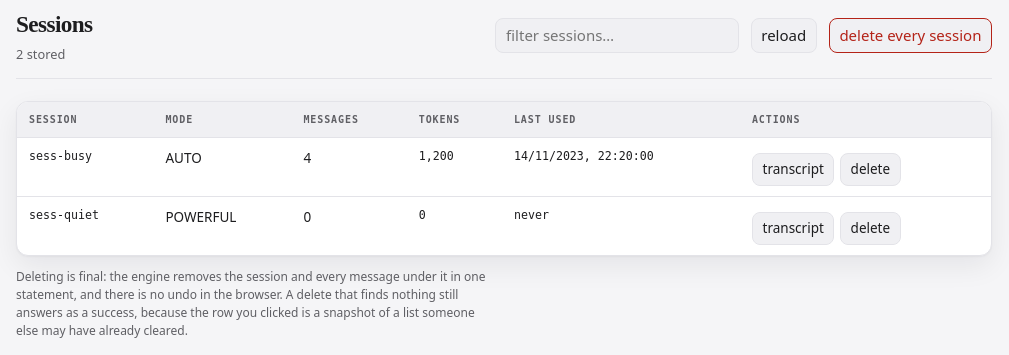
SessionsScreen › filters by id or mode and says what the filter hid
The width and height of the screenshot is (1009, 355).
Expected: the text "sess-busy" is shown, [17,138,153,197]
In the field labelled "filter sessions": (617, 36) [496,18,739,54], type "powerful"
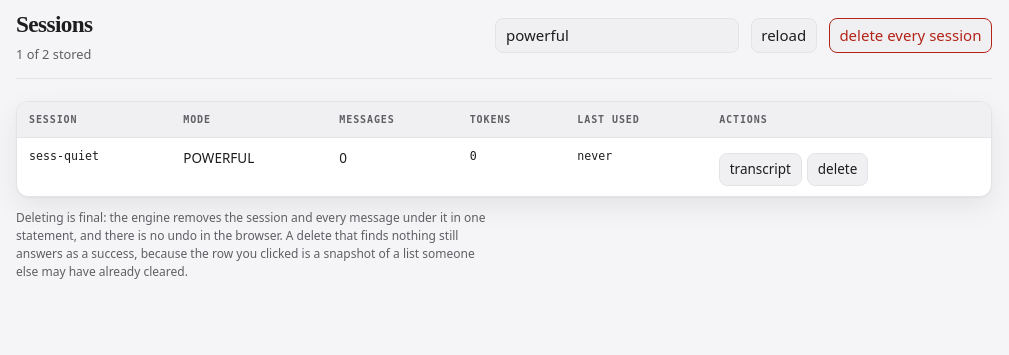
Expected: the text "sess-quiet" is shown, [17,138,171,196]
Expected: the text "sess-busy" is gone
Expected: the text "1 of 2 stored" is shown, [16,45,93,64]
Replace the text in the field named "filter sessions" with "zzz": (617, 36) [496,18,739,54]
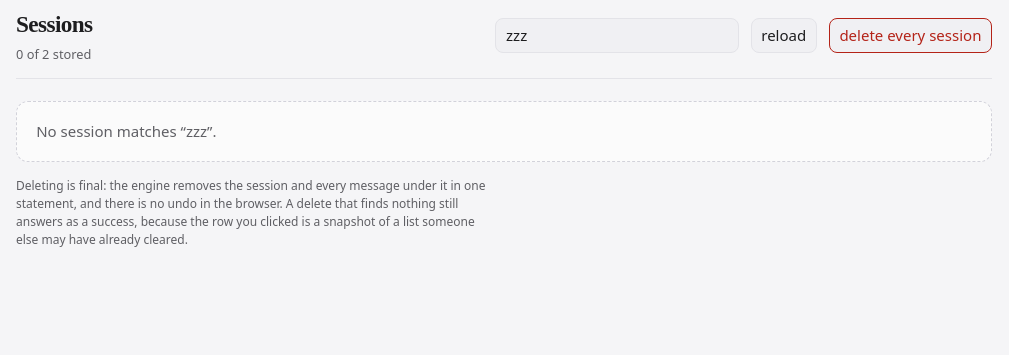
Expected: the text "No session matches “zzz”." is shown, [16,101,992,162]
